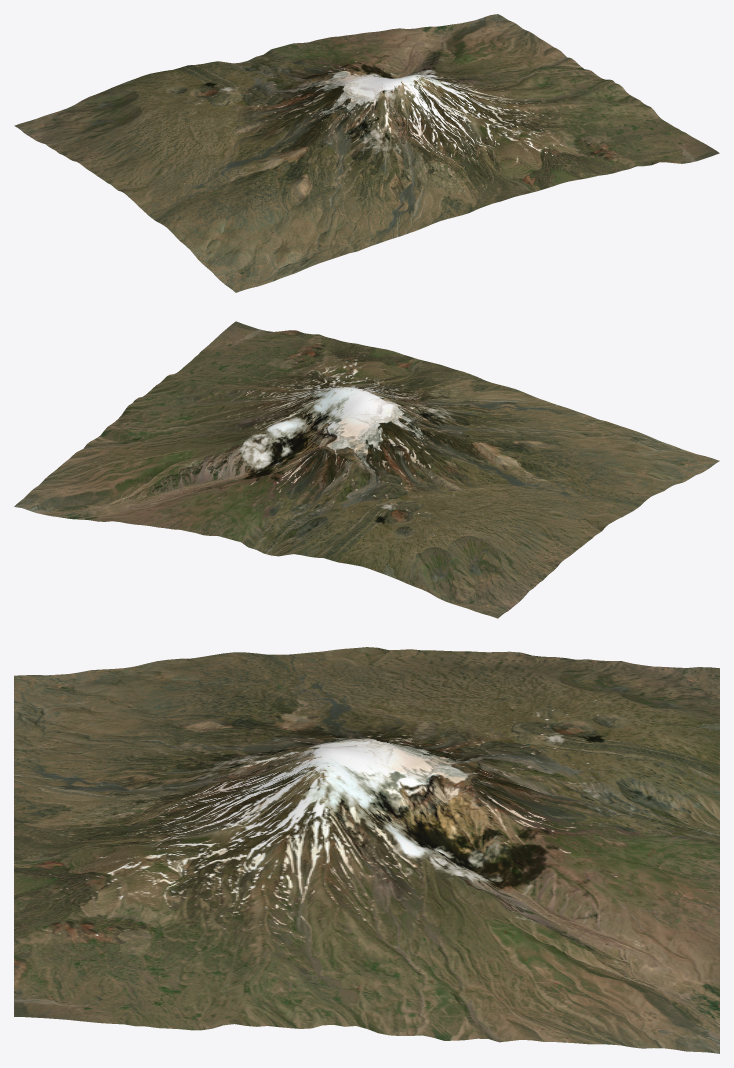
Rendered from mount_ararat.glb.
The picture shows the model from 3 angles, top to bottom: view 1: azimuth 30°, elevation 25°; view 2: azimuth 150°, elevation 25°; view 3: azimuth 270°, elevation 25°; orthographic projection. The views are drawn at different scales.
Parts seen in each view (by area): view 1: skfb_offset; view 2: skfb_offset; view 3: skfb_offset.
Part boxes in pixels (x1=…): skfb_offset: x1=14, y1=14, x2=719, y2=292; skfb_offset: x1=14, y1=321, x2=719, y2=618; skfb_offset: x1=14, y1=647, x2=719, y2=1053.
Bounding box in the file's own units: 20791 × 3265 × 16510.
1 material, 1 textured.
